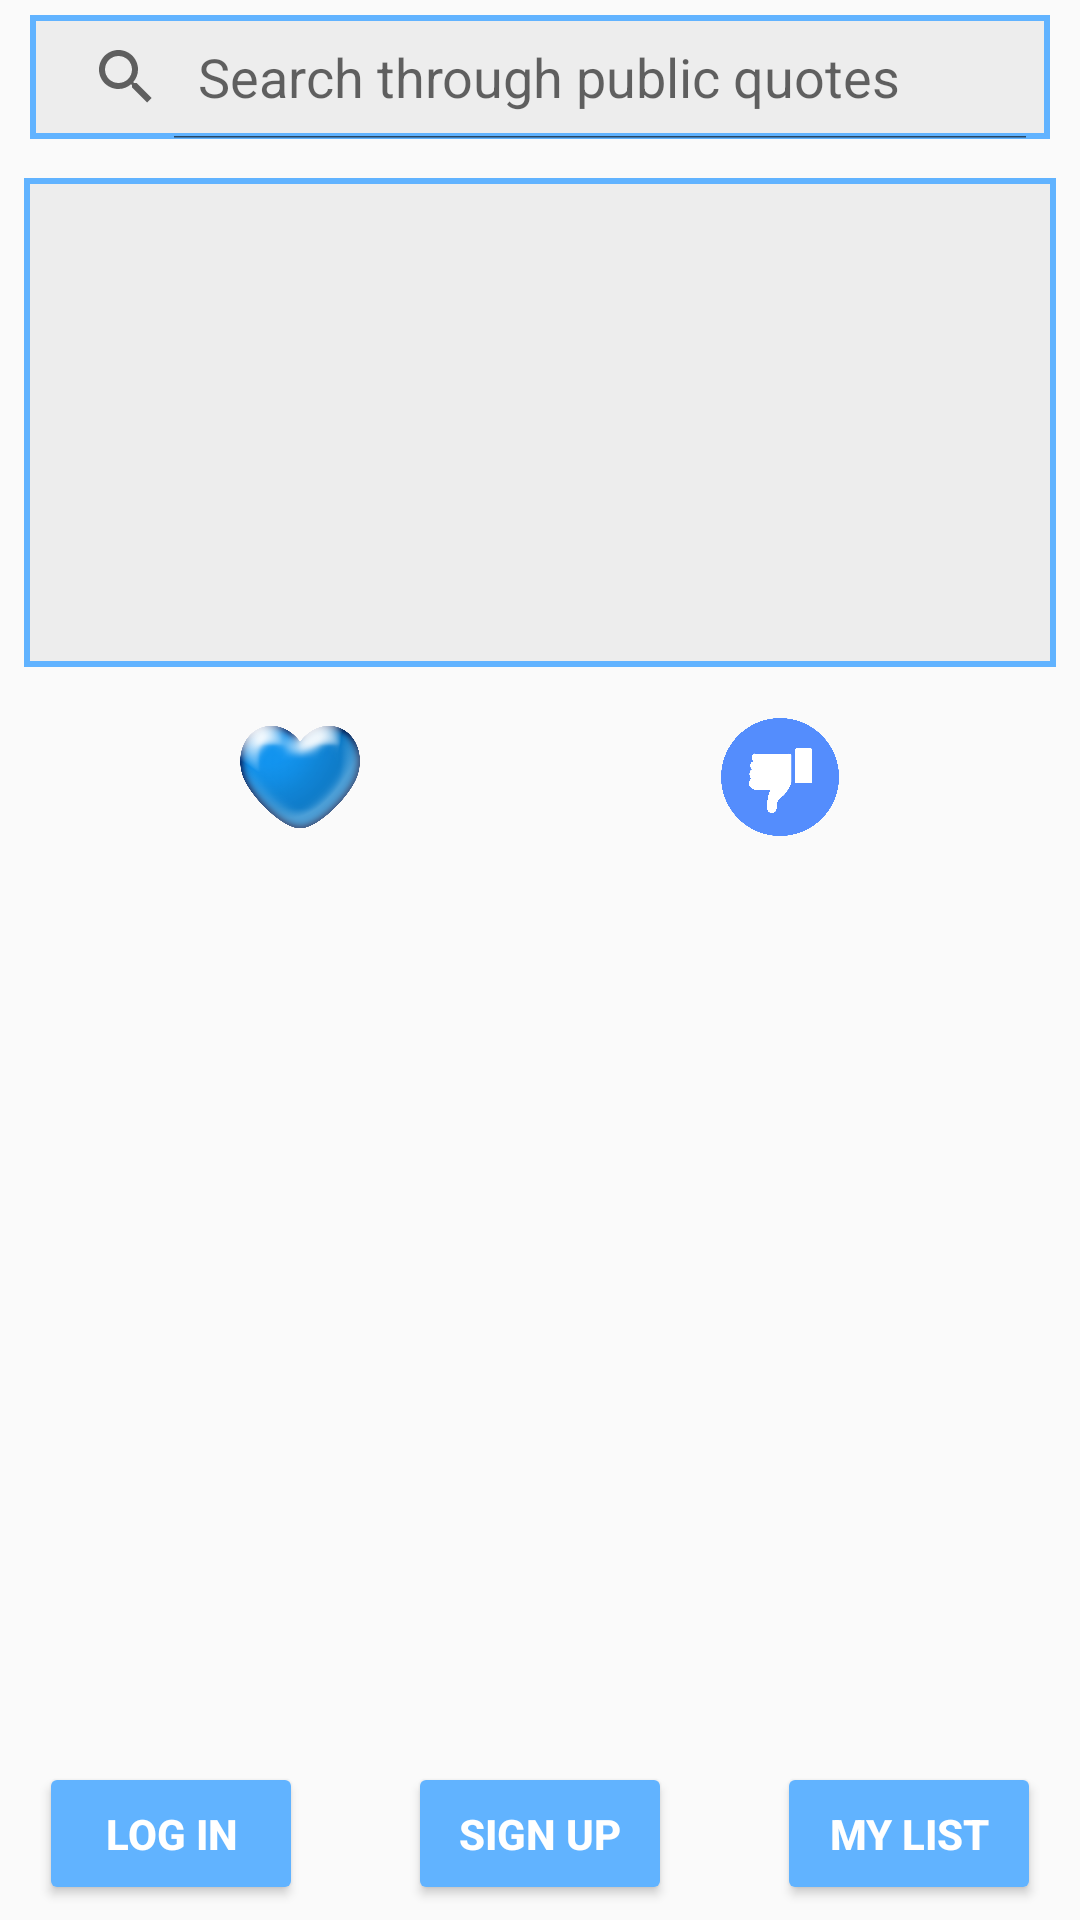

Point at icon controls on the screen. Image size 1080px x 1920px, points as [x,y].
dislike: [780,777]
fav: [300,777]
